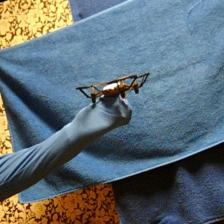drone: (78, 70, 148, 103)
